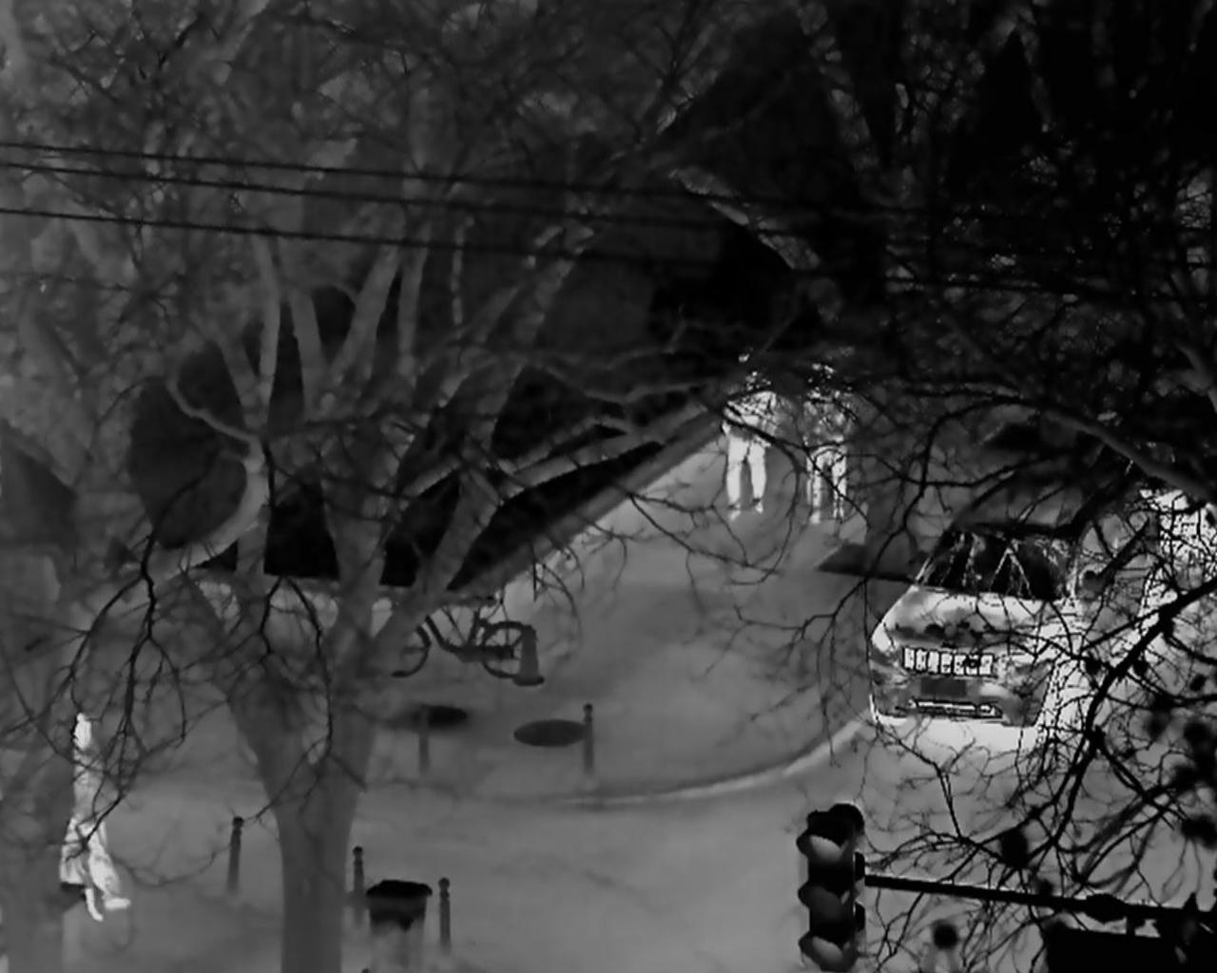person: (71, 712, 131, 910), (801, 393, 854, 524), (722, 391, 763, 519)
